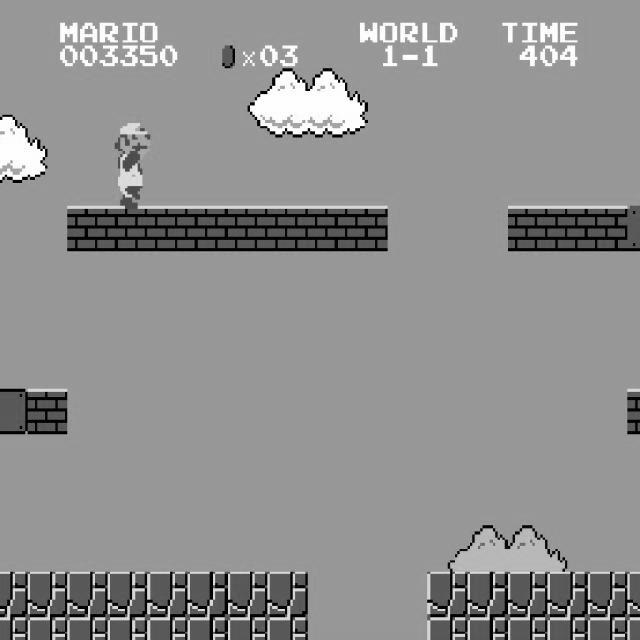1- brick_block: (27, 388, 68, 434), (67, 206, 108, 251), (107, 206, 148, 251), (147, 206, 188, 251), (187, 206, 228, 251), (227, 206, 268, 251), (267, 206, 308, 251), (307, 206, 348, 251), (347, 206, 388, 251), (507, 206, 548, 251), (547, 206, 588, 251), (587, 206, 628, 251), (627, 388, 640, 434)
13- mystery_block: (627, 206, 640, 251)
17- undestructible_block: (27, 572, 68, 618), (67, 572, 108, 618), (107, 572, 148, 618), (147, 572, 188, 618), (187, 572, 228, 618), (227, 572, 268, 618), (267, 572, 308, 618), (427, 572, 468, 618), (467, 572, 508, 618), (507, 572, 548, 618), (547, 572, 588, 618), (587, 572, 628, 618), (0, 572, 28, 618), (27, 617, 68, 640), (67, 617, 108, 640), (107, 617, 148, 640), (147, 617, 188, 640), (187, 617, 228, 640), (227, 617, 268, 640), (267, 617, 308, 640), (427, 617, 468, 640), (467, 617, 508, 640), (507, 617, 548, 640), (547, 617, 588, 640), (587, 617, 628, 640), (0, 617, 28, 640), (627, 572, 640, 618), (627, 617, 640, 640)
3- empty_block: (0, 388, 28, 434)
4- fire_mario: (107, 114, 150, 208)
5- fireball: (130, 125, 150, 152)
